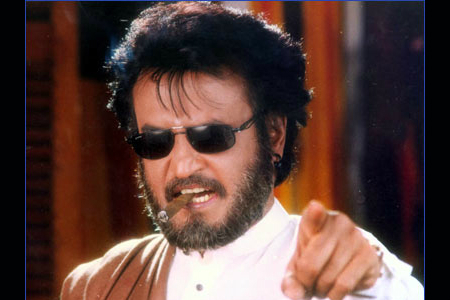cigarette: (149, 190, 198, 228)
